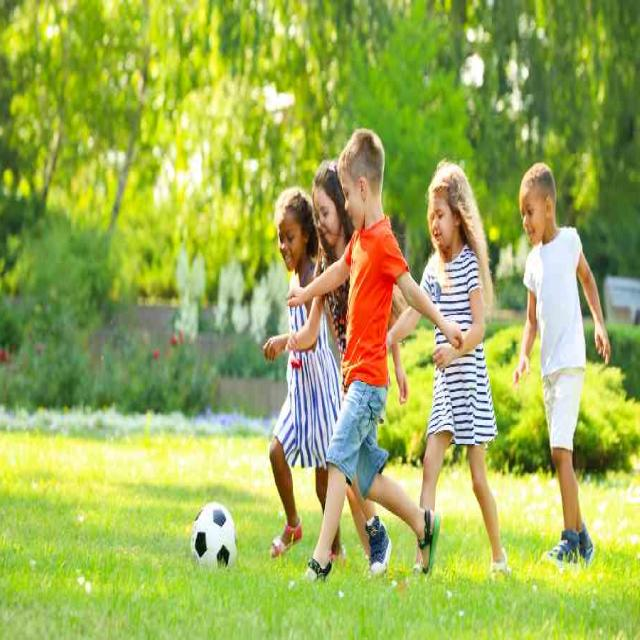child: (288, 130, 462, 592), (385, 157, 507, 580), (514, 155, 612, 566), (263, 187, 332, 562), (309, 160, 350, 407)
